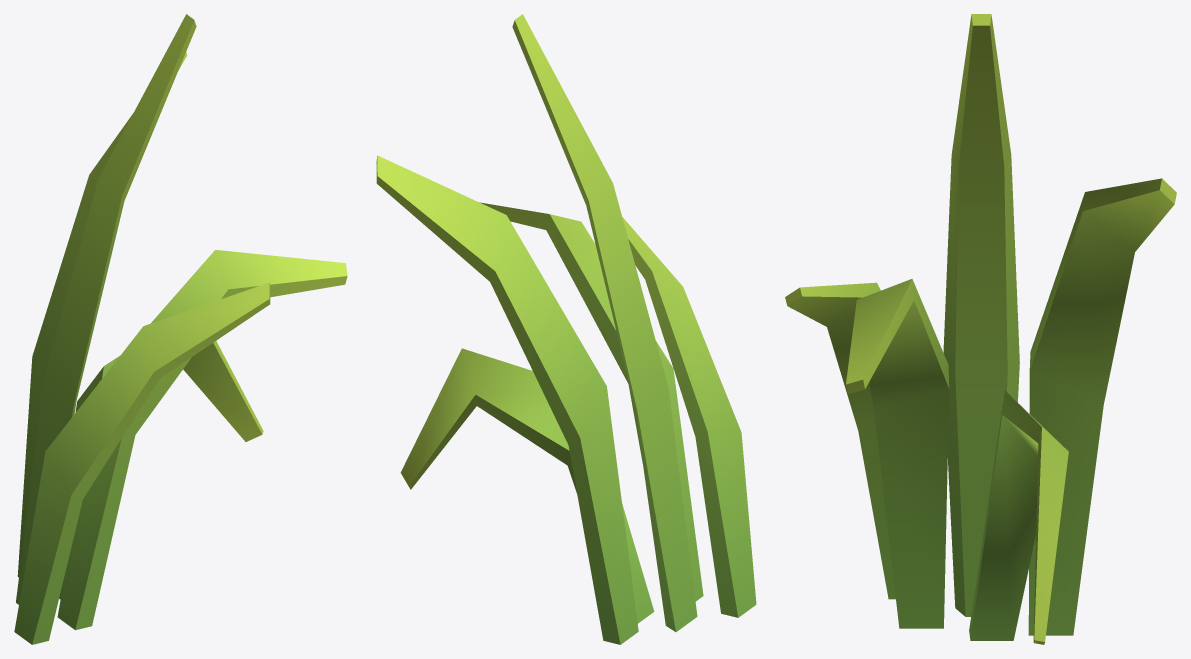
File: Grass1.FBX
The picture shows the model from 3 angles, left to right: view 1: azimuth 30°, elevation 25°; view 2: azimuth 150°, elevation 25°; view 3: azimuth 270°, elevation 25°; orthographic projection. The views are drawn at different scales.
Visible parts, largest first — view 1: Grass1; view 2: Grass1; view 3: Grass1.
Boxes of the visible parts, <box> form: Grass1: <box>14,14,347,644</box>; Grass1: <box>376,14,756,644</box>; Grass1: <box>785,14,1176,644</box>.
Bounding box in the file's own units: 16.54 × 28.79 × 14.72.
